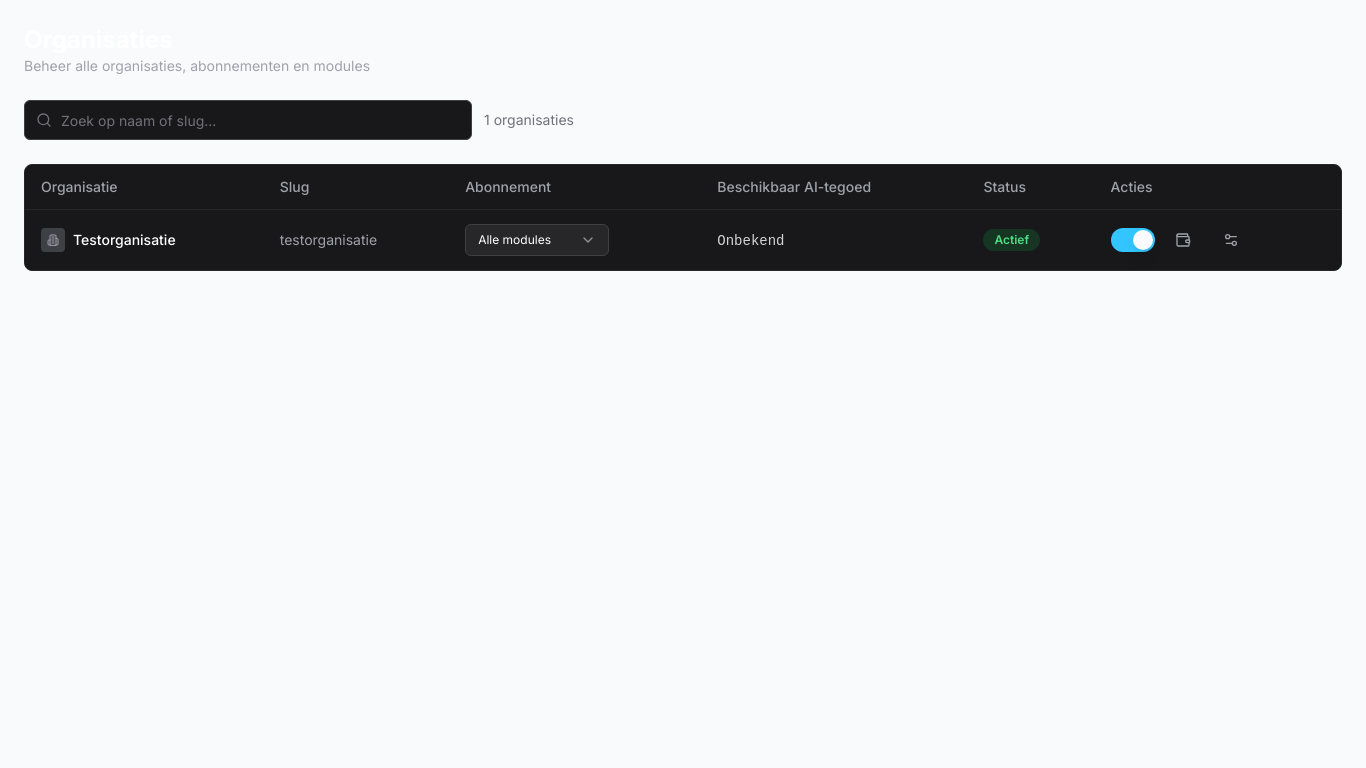
Scenario: SaaS administrator hours-module opt-in › keeps the switch unavailable if reading the current override fails
Later steps or results of the test are not shown.
What coordinates should you click on to do the following:
click the button titled "Modules beheren"
I would click on:
 (1230, 240)
Its box is top-left (1210, 222), bottom-right (1250, 258).
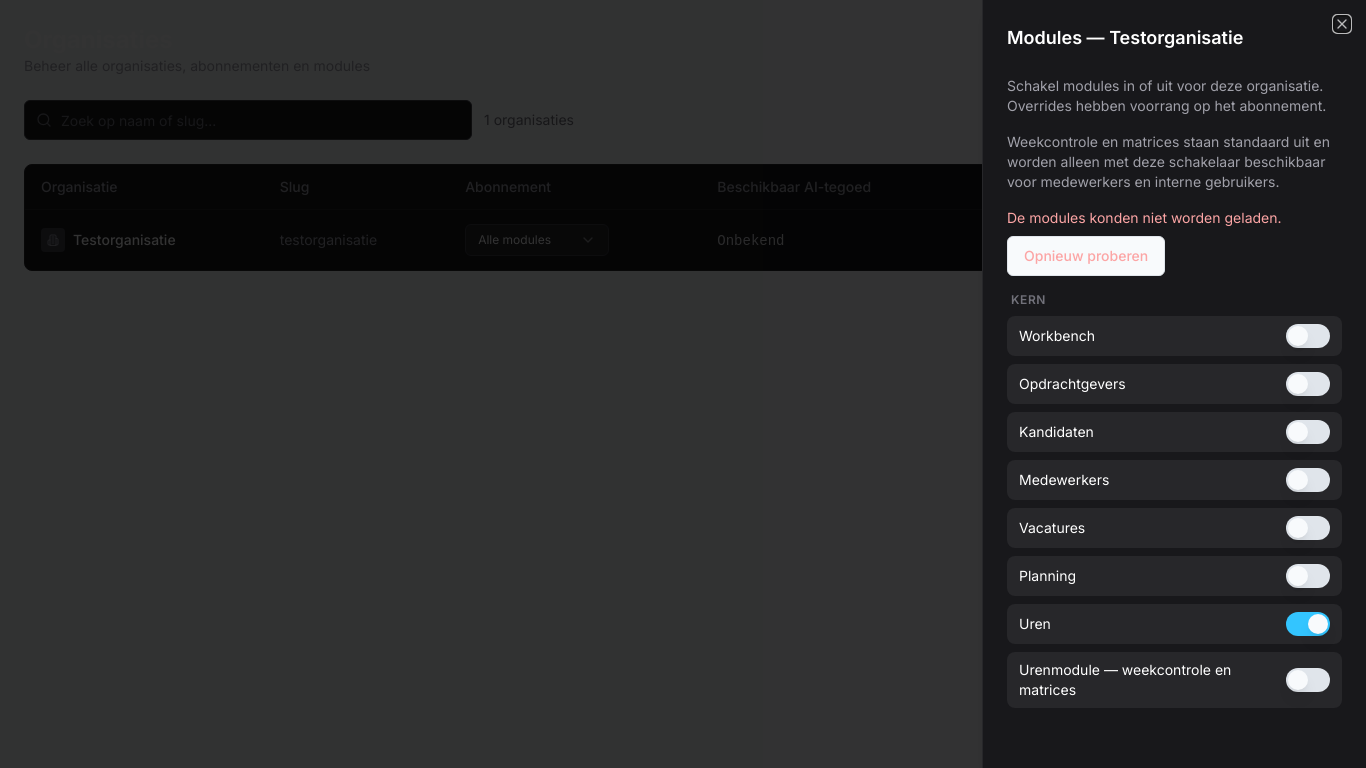
expect the button "Opnieuw proberen" is shown: met, box top-left (1007, 236), bottom-right (1165, 276)
expect the switch named "Urenmodule — weekcontrole en matrices" is disabled: met, box top-left (1286, 668), bottom-right (1330, 692)
